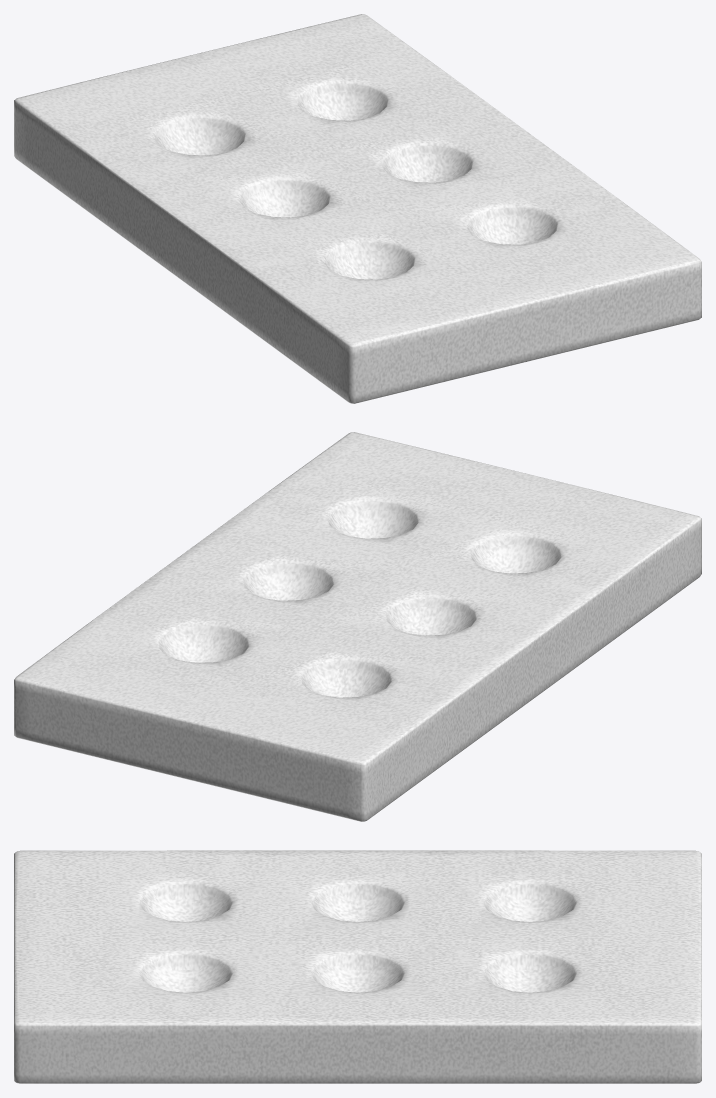
The model's file is chemical_reaction plate.FBX.
3 renders of one model, top to bottom at view 1: azimuth 30°, elevation 25°; view 2: azimuth 150°, elevation 25°; view 3: azimuth 270°, elevation 25°, orthographic.
Parts seen in each view (by area): view 1: w; view 2: w; view 3: w.
Boxes of the visible parts, <box> form: w: <box>14,14,701,403</box>; w: <box>14,432,701,821</box>; w: <box>14,850,701,1083</box>.
Bounding box in the file's own units: 15 × 2.43 × 25.
1 material, 1 textured.
